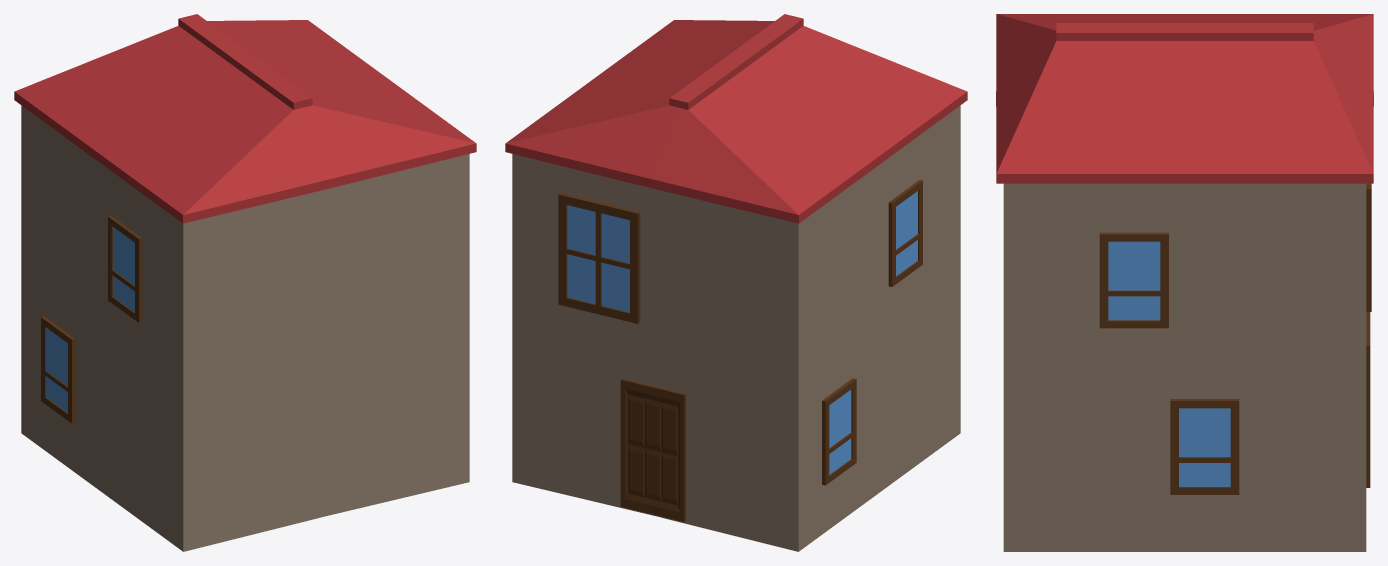
Rendered from House1.fbx.
3 views of the same model, side by side, from view 1: azimuth 30°, elevation 25°; view 2: azimuth 150°, elevation 25°; view 3: azimuth 270°, elevation 25° (orthographic). The views are drawn at different scales.
Visible parts, largest first — view 1: Casa1, VentanaChica.003, VentanaChica.002; view 2: Casa1, VentanaGrande.001, Puerta4, VentanaChica.003, VentanaChica.002; view 3: Casa1, VentanaChica.004, VentanaChica.001, Puerta4, VentanaGrande.001.
Part boxes in pixels (<box>): Casa1: <box>14,14,476,551</box>; VentanaChica.003: <box>41,316,75,423</box>; VentanaChica.002: <box>108,215,142,322</box>; Casa1: <box>505,14,967,551</box>; VentanaGrande.001: <box>558,192,640,323</box>; Puerta4: <box>620,378,685,522</box>; VentanaChica.003: <box>822,378,856,485</box>; VentanaChica.002: <box>888,180,922,286</box>; Casa1: <box>996,14,1373,551</box>; VentanaChica.004: <box>1099,232,1168,328</box>; VentanaChica.001: <box>1170,399,1239,494</box>; Puerta4: <box>1366,312,1370,487</box>; VentanaGrande.001: <box>1366,183,1371,311</box>.
Bounding box in the file's own units: 1849 × 2403 × 1844.
